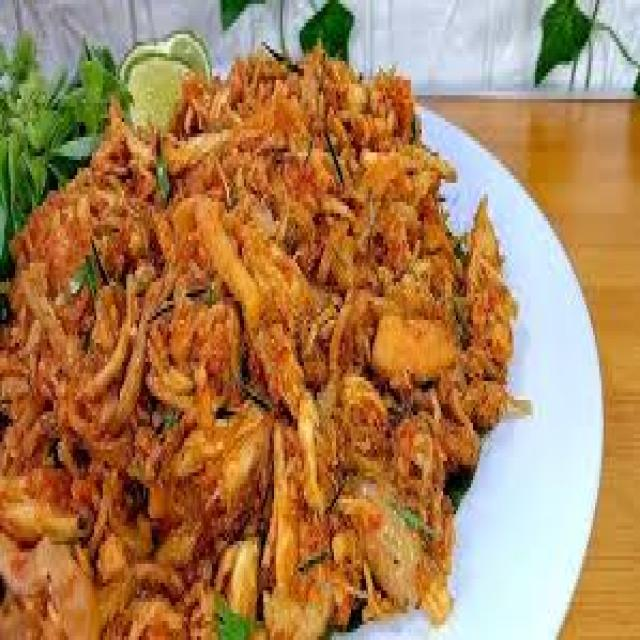ayam_suwir: (0, 34, 514, 640)
